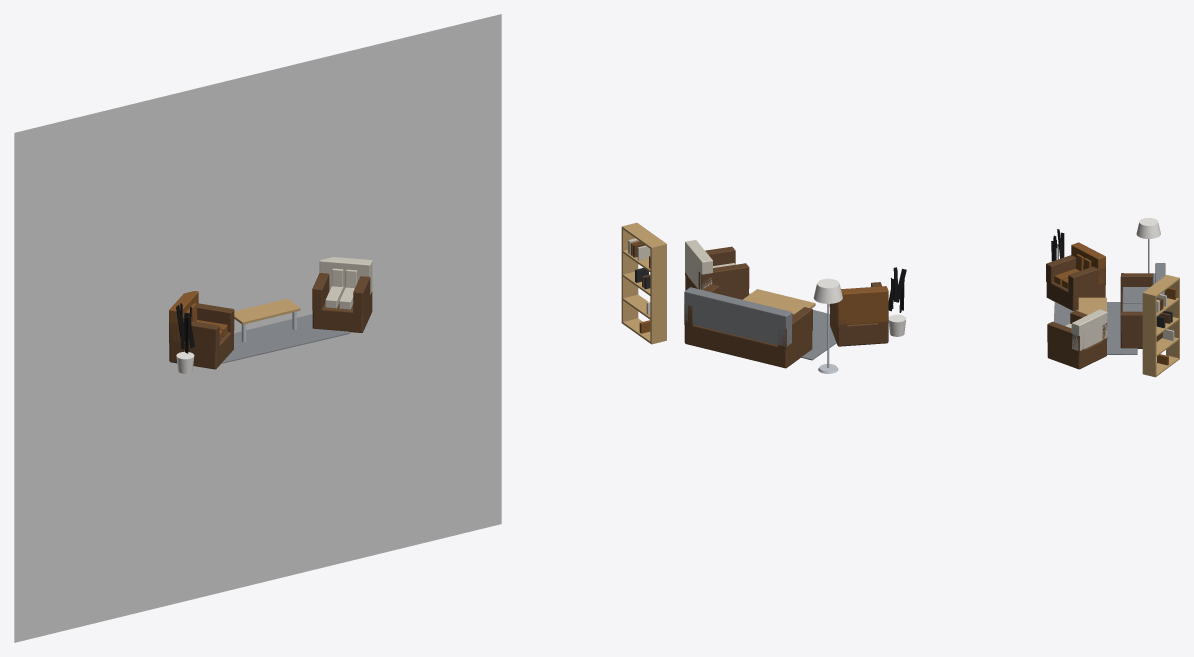
Rendered from scandi-living-room.glb.
3 renders of one model, left to right at view 1: azimuth 30°, elevation 25°; view 2: azimuth 150°, elevation 25°; view 3: azimuth 270°, elevation 25°, orthographic. The views are drawn at different scales.
Parts seen in each view (by area): view 1: object 1, object 2, object 12, object 34, object 26, object 28, object 35, object 21, object 29; view 2: object 14, object 13, object 27, object 45, object 26, object 36, object 46, object 35, object 21, object 12, object 15; view 3: object 46, object 12, object 35, object 34, object 26, object 29, object 37, object 27, object 45, object 28, object 16, object 15 (+7 smaller).
Part boxes in pixels (x1,y1,x2,y2): object 1: (14, 14, 501, 642); object 2: (209, 214, 306, 391); object 12: (221, 314, 349, 363); object 34: (312, 294, 372, 332); object 26: (169, 331, 233, 369); object 28: (169, 320, 219, 350); object 35: (319, 257, 372, 294); object 21: (234, 298, 300, 324); object 29: (196, 303, 234, 333); object 14: (684, 287, 792, 346); object 13: (684, 325, 812, 368); object 27: (836, 286, 888, 324); object 45: (650, 243, 666, 344); object 26: (830, 308, 888, 346); object 36: (698, 263, 749, 292); object 46: (621, 222, 638, 323); object 35: (685, 240, 712, 289); object 21: (743, 289, 815, 315); object 12: (749, 293, 836, 360); object 15: (778, 307, 812, 349); object 46: (1142, 292, 1156, 377); object 12: (1053, 302, 1137, 354); object 35: (1071, 309, 1107, 350); object 34: (1047, 340, 1106, 369); object 26: (1046, 282, 1105, 310); object 29: (1068, 266, 1105, 295); object 37: (1047, 321, 1084, 353); object 27: (1071, 242, 1105, 284); object 45: (1166, 275, 1179, 359); object 28: (1046, 255, 1076, 283); object 16: (1120, 311, 1162, 333); object 15: (1120, 273, 1153, 293).
Bounding box in the file's own units: 10 × 10 × 2.82.
